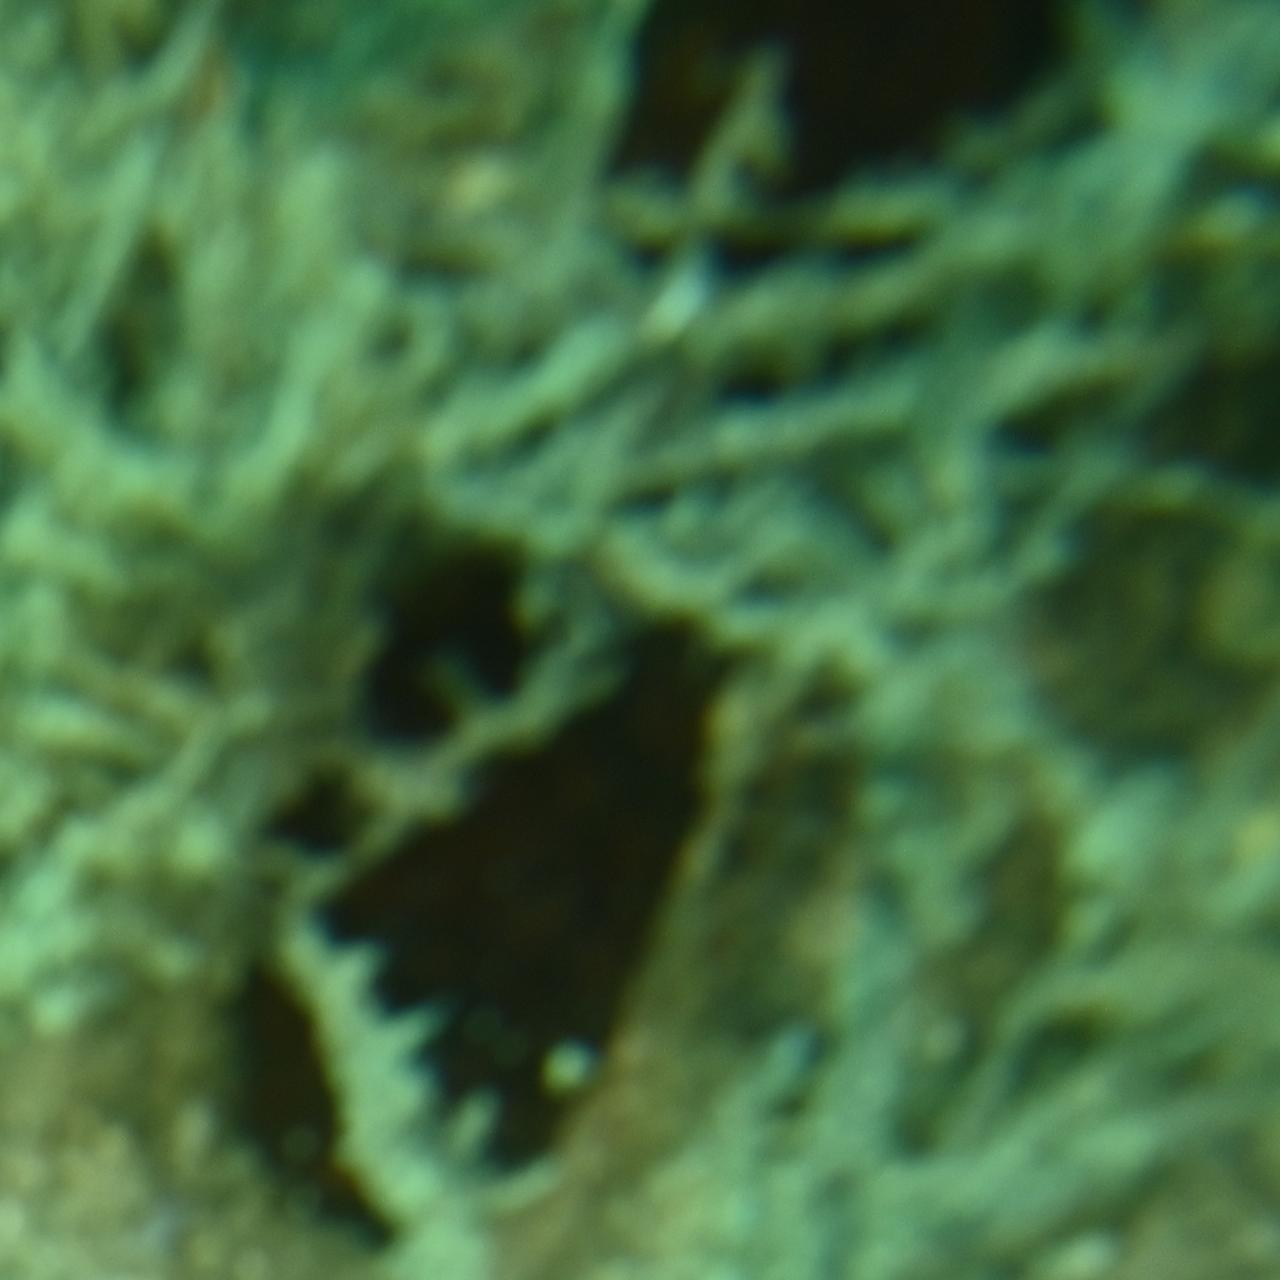Holothuria tubulosa: (215, 0, 1065, 1256)
